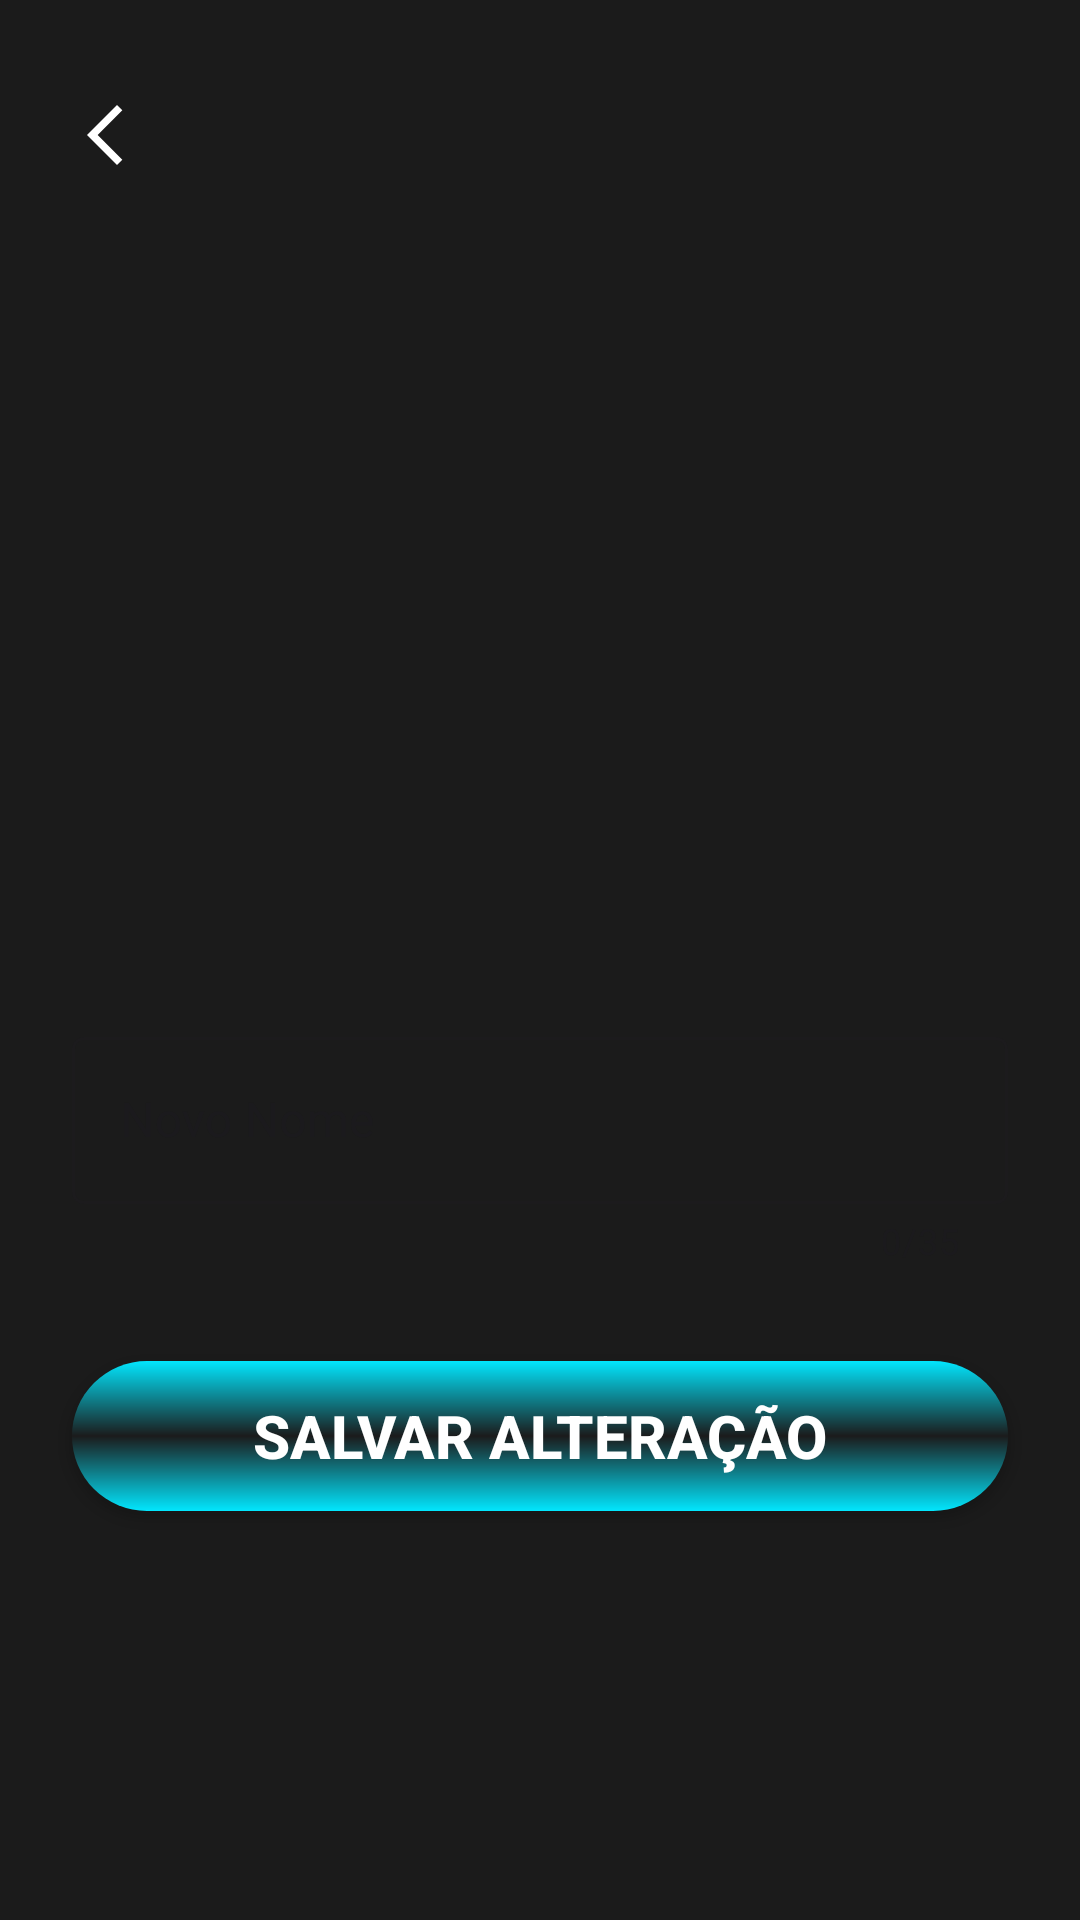

Named icons in this screenshot (1080px x 1920px) and their bounding boxes, Rect(x1, y1, x2, y2):
to back: Rect(87, 105, 122, 165)
